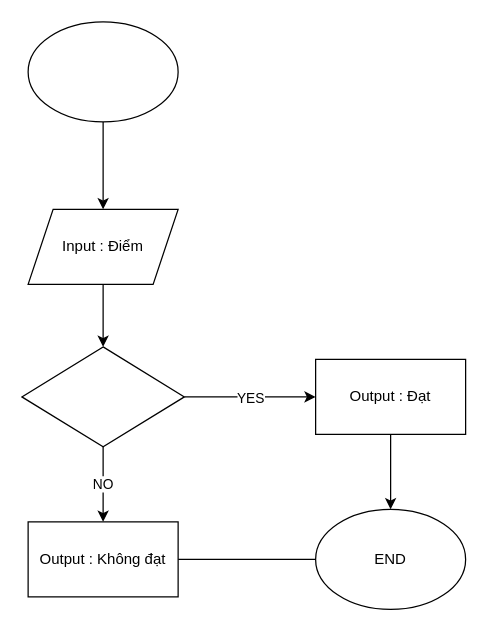
Image size: 488x631. Some labels were removed from this diagram. Each missing label, with the box of its shape:
START: (27, 21, 178, 122)
Điểm > 5: (21, 346, 184, 447)
